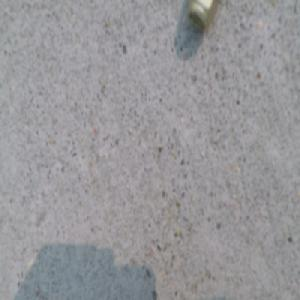BoltNutSet: (188, 0, 216, 29)
